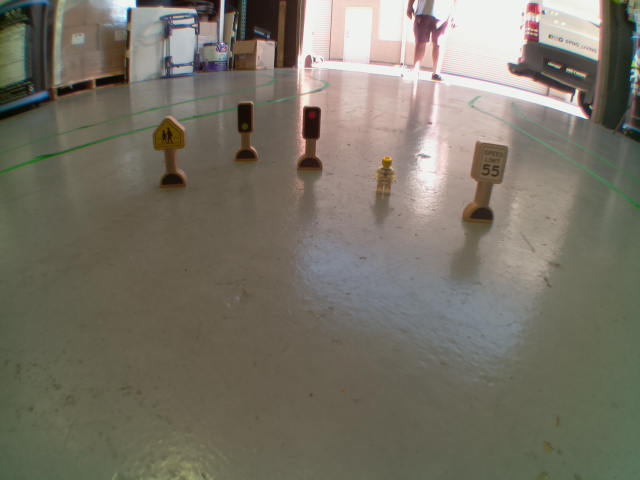Green Traffic Light: (233, 100, 258, 136)
Red Traffic Light: (300, 104, 322, 141)
Speed Limit 55: (476, 140, 506, 182)
YIELD: (149, 115, 187, 152)
person: (369, 155, 400, 195)
